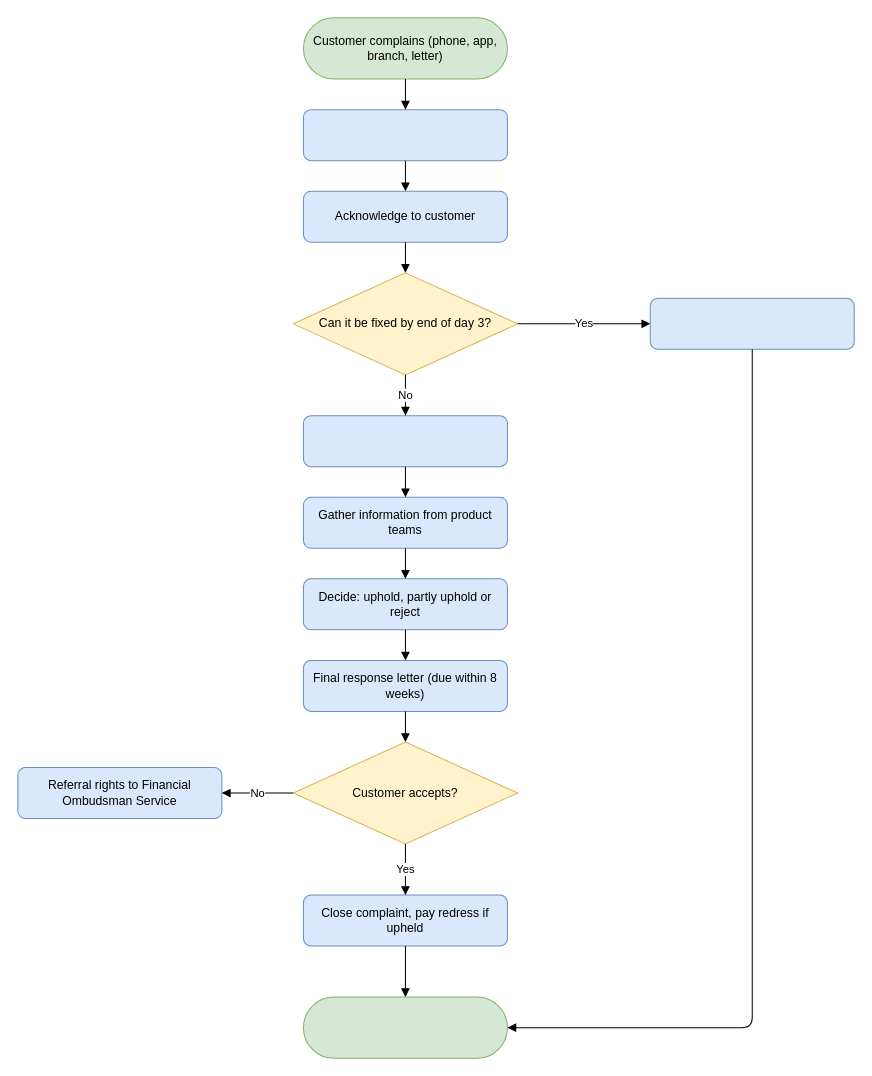
The diagram is 872 pixels wide and 1076 high, and some of its shapes have lost their labels. The centre of each missing label's shape, as x and y in pixels:
Assign to investigator by queue: point (404, 441)
Close and record outcome: point (404, 1027)
Log complaint in case system: point (404, 135)
Summary resolution sent to customer: point (751, 323)
